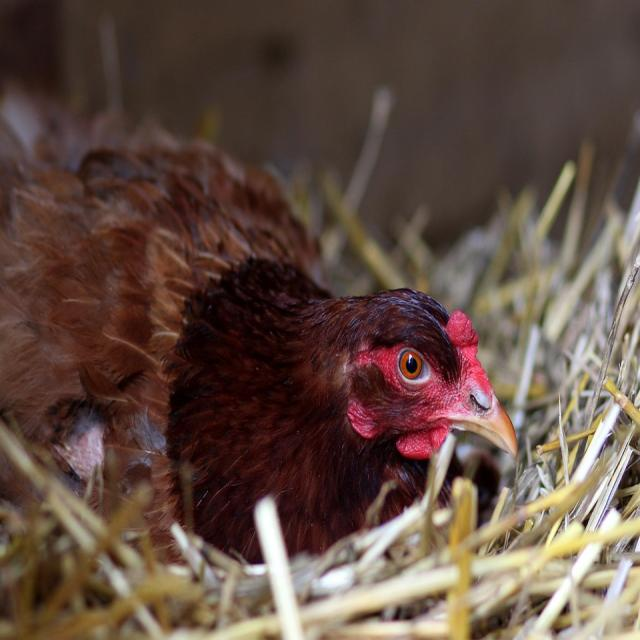Chicken: (13, 117, 532, 578)
